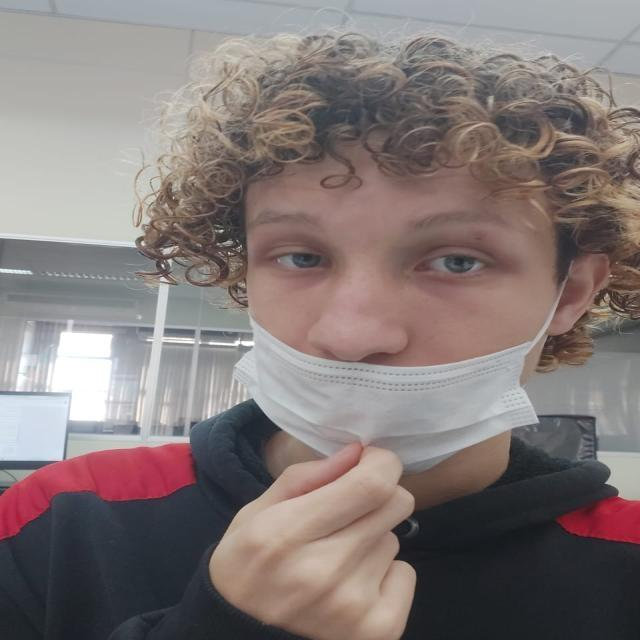hairnet: (237, 181, 548, 464)
